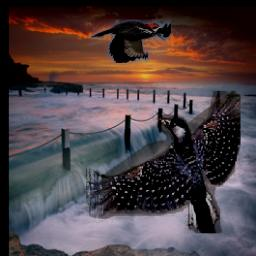Woodpecker: (86, 91, 241, 233), (90, 20, 171, 63)
